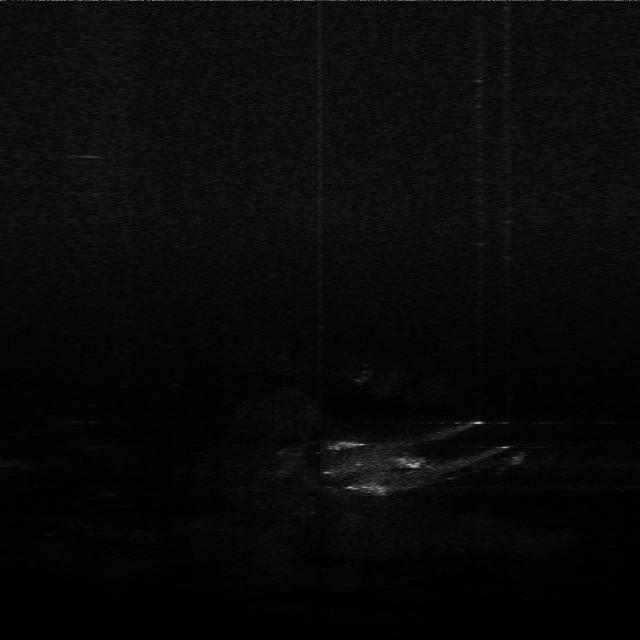rov: (396, 453, 428, 471)
